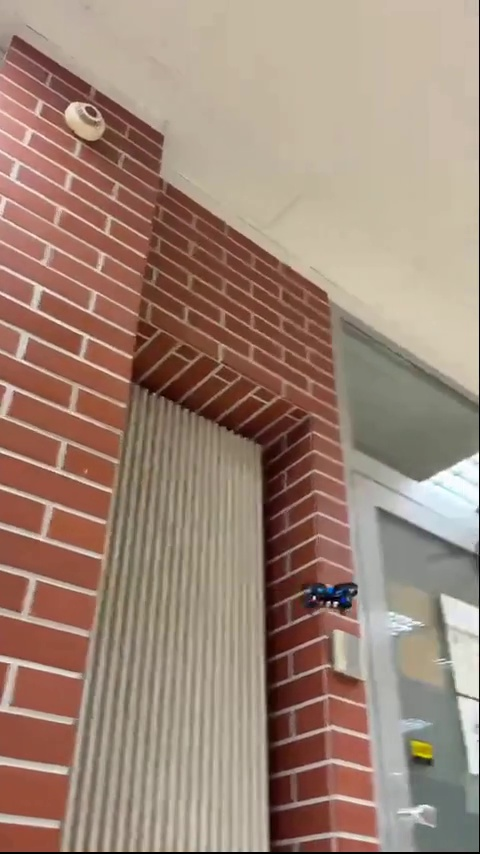drone: (301, 577, 360, 613)
